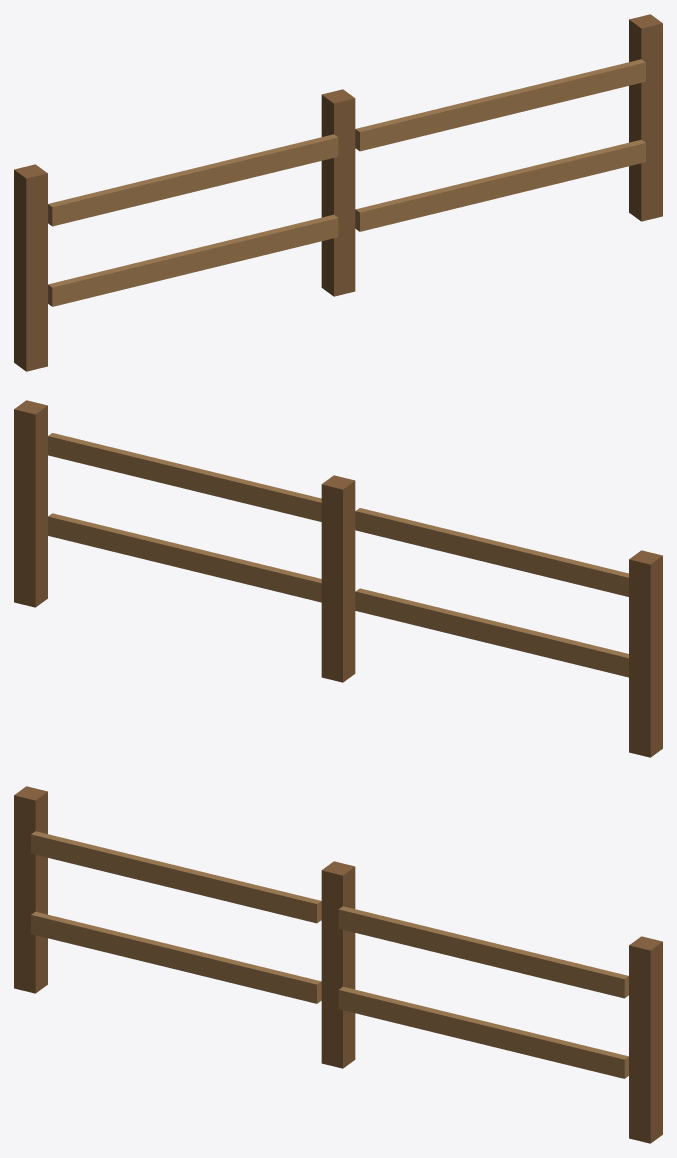
The model's file is fence.glb.
3 renders of one model, top to bottom at view 1: azimuth 30°, elevation 25°; view 2: azimuth 150°, elevation 25°; view 3: azimuth 330°, elevation 25°, orthographic.
Parts seen in each view (by area): view 1: Wood_Rail1_1, Wood_Rail0_1, Wood_Rail1_0, Wood_Rail0_0, Wood_Post0, Wood_Post1, Wood_Post2; view 2: Wood_Post1, Wood_Post0, Wood_Post2, Wood_Rail1_0, Wood_Rail1_1, Wood_Rail0_0, Wood_Rail0_1; view 3: Wood_Rail0_1, Wood_Rail0_0, Wood_Rail1_1, Wood_Rail1_0, Wood_Post2, Wood_Post1, Wood_Post0.
Boxes of the visible parts, x1,y1,x2,y2 form: Wood_Rail1_1: (355,59,645,151); Wood_Rail0_1: (48,134,338,226); Wood_Rail1_0: (355,139,645,231); Wood_Rail0_0: (48,214,338,306); Wood_Post0: (14,164,47,371); Wood_Post1: (321,89,355,296); Wood_Post2: (629,14,662,221); Wood_Post1: (321,475,355,682); Wood_Post0: (629,550,662,757); Wood_Post2: (14,400,47,607); Wood_Rail1_0: (48,513,321,602); Wood_Rail1_1: (48,433,321,521); Wood_Rail0_0: (355,588,628,677); Wood_Rail0_1: (355,508,628,596); Wood_Rail0_1: (31,831,321,923); Wood_Rail0_0: (31,911,321,1003); Wood_Rail1_1: (338,906,628,998); Wood_Rail1_0: (338,986,628,1078); Wood_Post2: (629,936,662,1143); Wood_Post1: (321,861,355,1068); Wood_Post0: (14,786,47,993).
Size of the model in its own units: 4.14 by 1.2 by 0.19.
